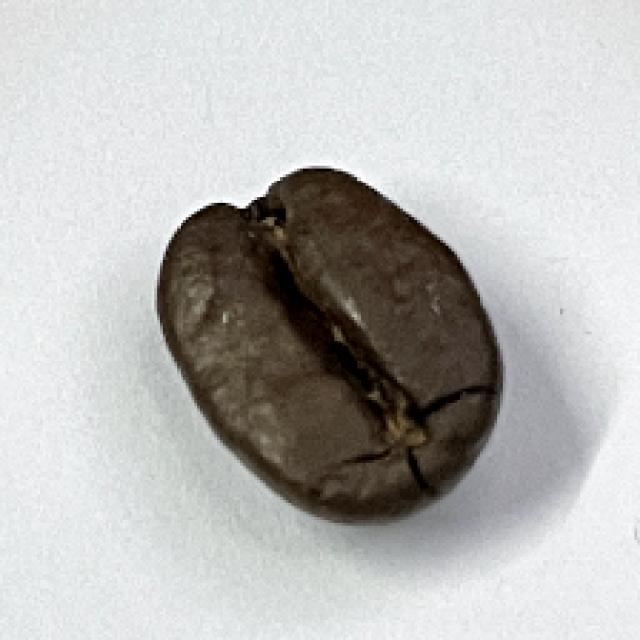bean: (150, 159, 512, 530)
